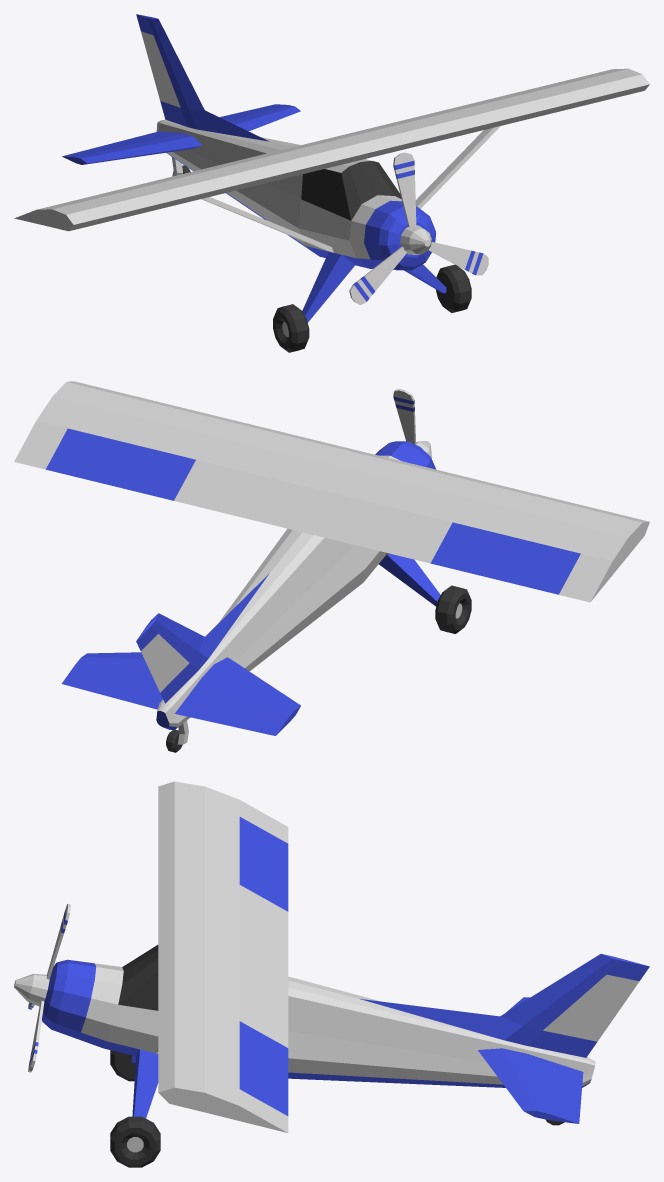
The model's file is airplane-sun.fbx.
3 views of the same model, one above another, from view 1: azimuth 30°, elevation 25°; view 2: azimuth 150°, elevation 25°; view 3: azimuth 270°, elevation 25° (orthographic). The views are drawn at different scales.
Visible parts, largest first — view 1: Plane.035, Plane, Circle.001, Circle.002, Circle.004, Circle.003, Circle.008, Plane.001, Plane.003, Plane.002, Circle.007; view 2: Plane.035, Plane, Circle.002, Circle.001, Circle.004, Circle.003, Plane.001; view 3: Plane.035, Plane, Circle.001, Circle.002, Circle.004, Circle.003, Circle.007.
Part boxes in pixels (x1,y1,x2,y2): Plane.035: (14,68,649,231); Plane: (156,119,436,270); Circle.001: (136,14,269,141); Circle.002: (62,104,300,164); Circle.004: (273,264,471,352); Circle.003: (302,251,446,322); Circle.008: (201,126,500,252); Plane.001: (393,152,416,227); Plane.003: (349,246,406,304); Plane.002: (428,242,488,275); Circle.007: (400,225,431,254); Plane.035: (14,381,649,602); Plane: (156,441,436,729); Circle.002: (61,652,300,735); Circle.001: (136,573,269,703); Circle.004: (435,585,471,633); Circle.003: (379,554,440,606); Plane.001: (393,389,416,444); Plane.035: (158,781,288,1132); Plane: (42,945,595,1087); Circle.001: (360,954,649,1057); Circle.002: (478,997,583,1123); Circle.004: (110,1050,160,1167); Circle.003: (131,1049,158,1118); Circle.007: (14,973,49,1006).
Size of the model in its own units: 824 by 271 by 723.
